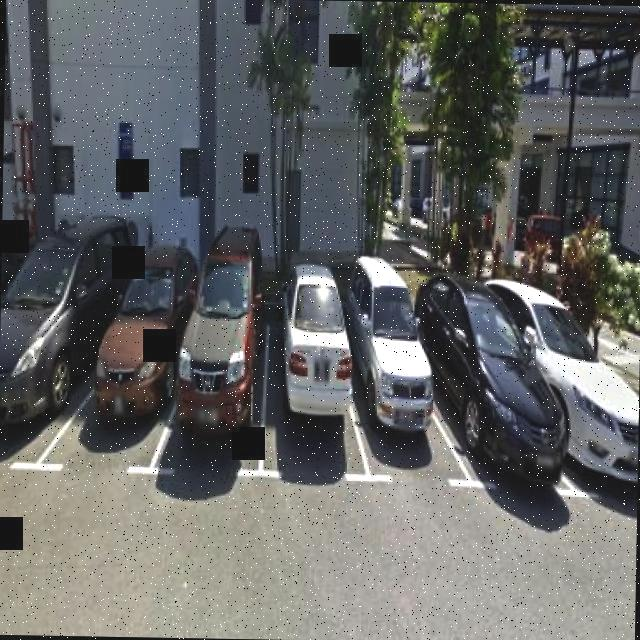car: (416, 247, 566, 498), (492, 252, 640, 491), (0, 201, 114, 465), (95, 212, 193, 458), (348, 234, 441, 472), (184, 208, 260, 446), (280, 254, 356, 446), (1, 217, 20, 301)
